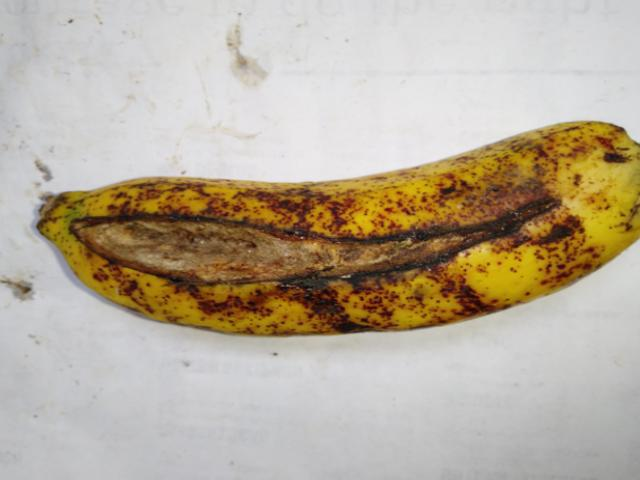rotten: (72, 158, 558, 340)
